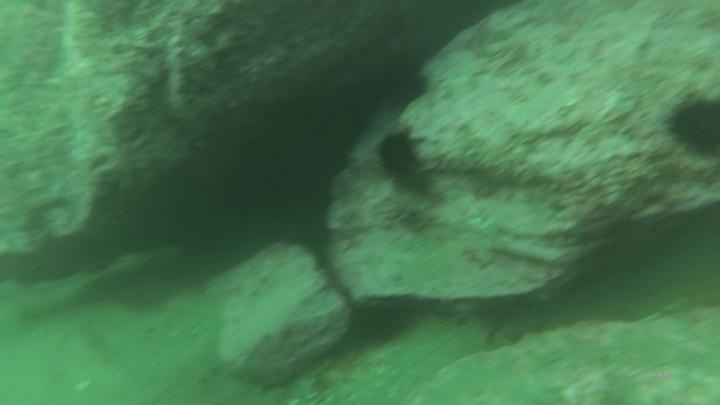echinus: (663, 90, 720, 160), (372, 53, 432, 113), (347, 296, 413, 349), (372, 125, 426, 187)
holothurian: (158, 30, 194, 117)
